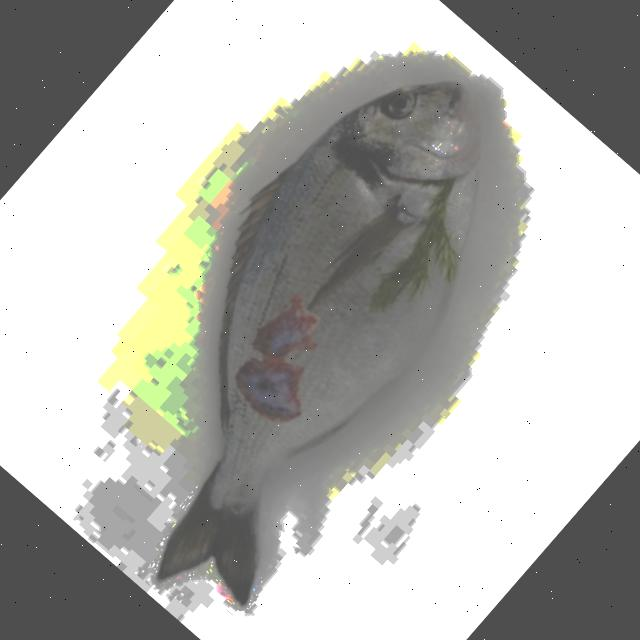Columnaris Disease: (158, 81, 480, 604)
